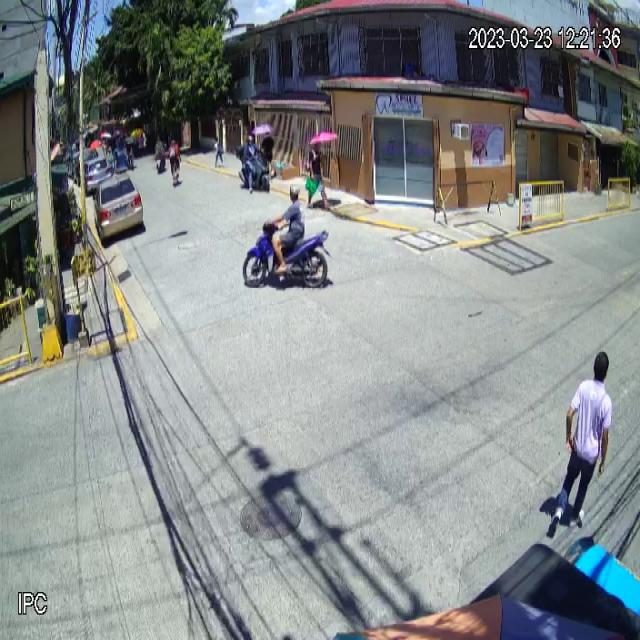Motorcycle: (242, 217, 334, 291)
